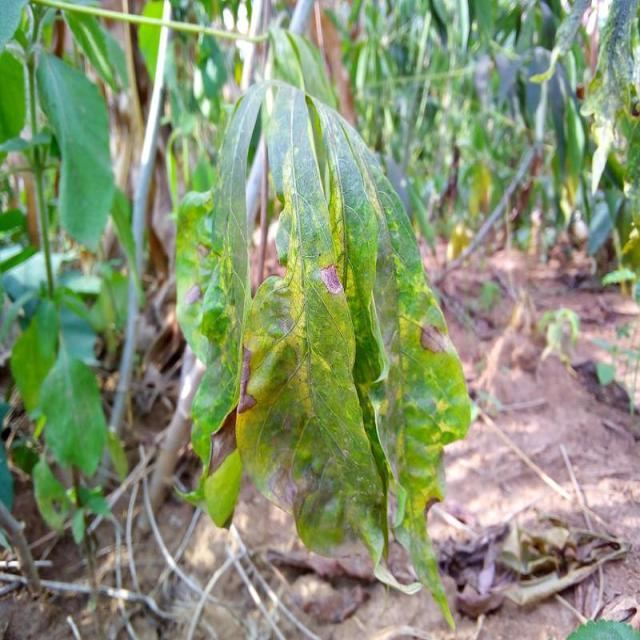cassava leaf: (174, 77, 472, 628), (33, 46, 115, 253)
